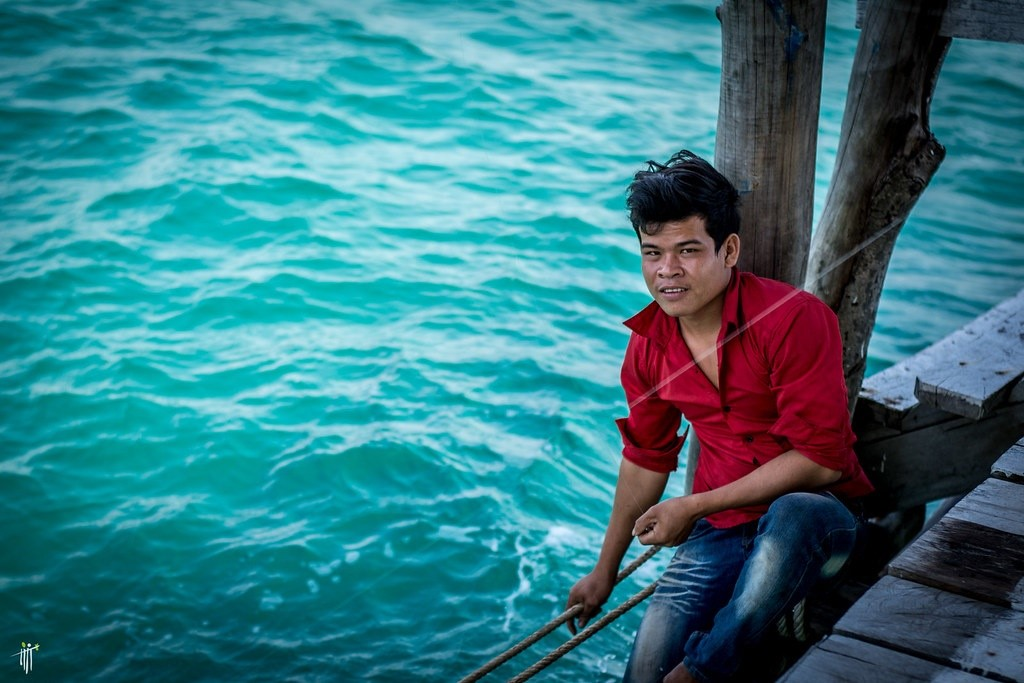face_no_mask: (635, 183, 741, 313)
